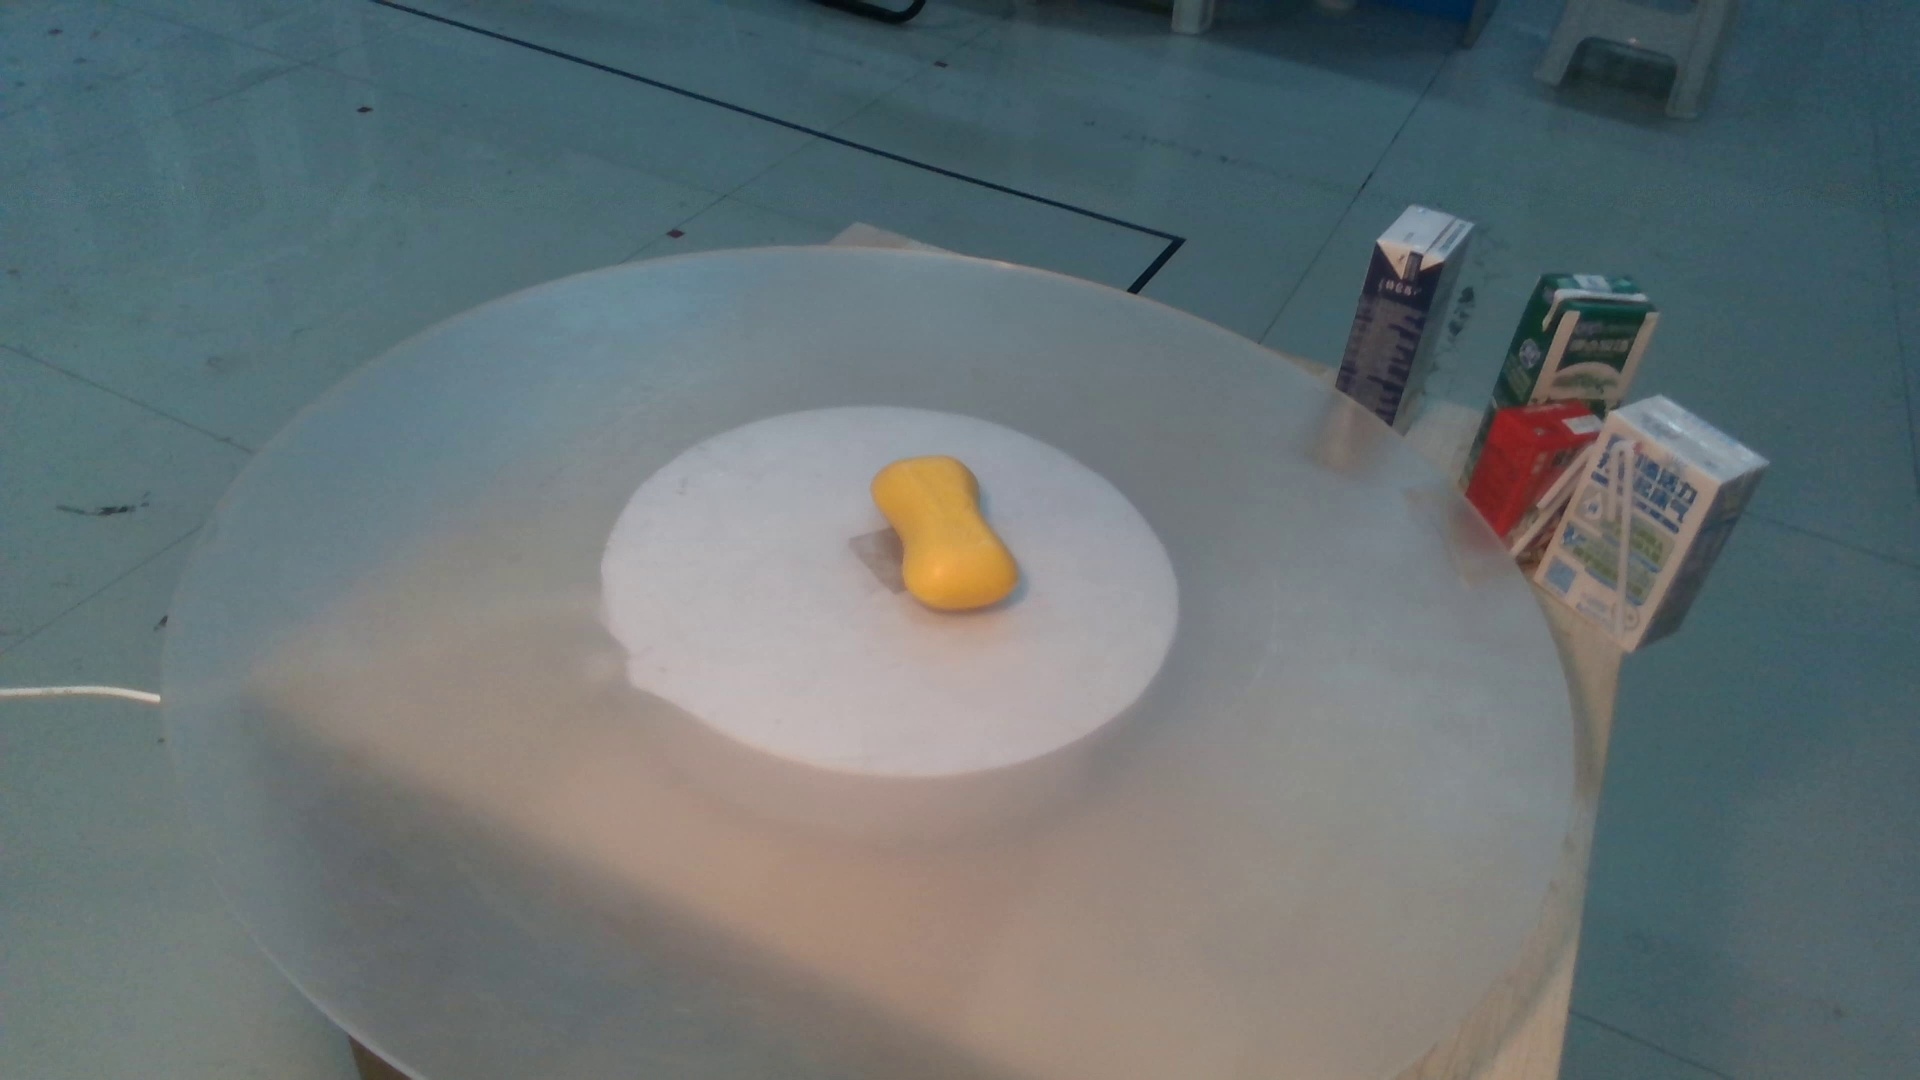CA003_1: (851, 440, 1047, 612)
